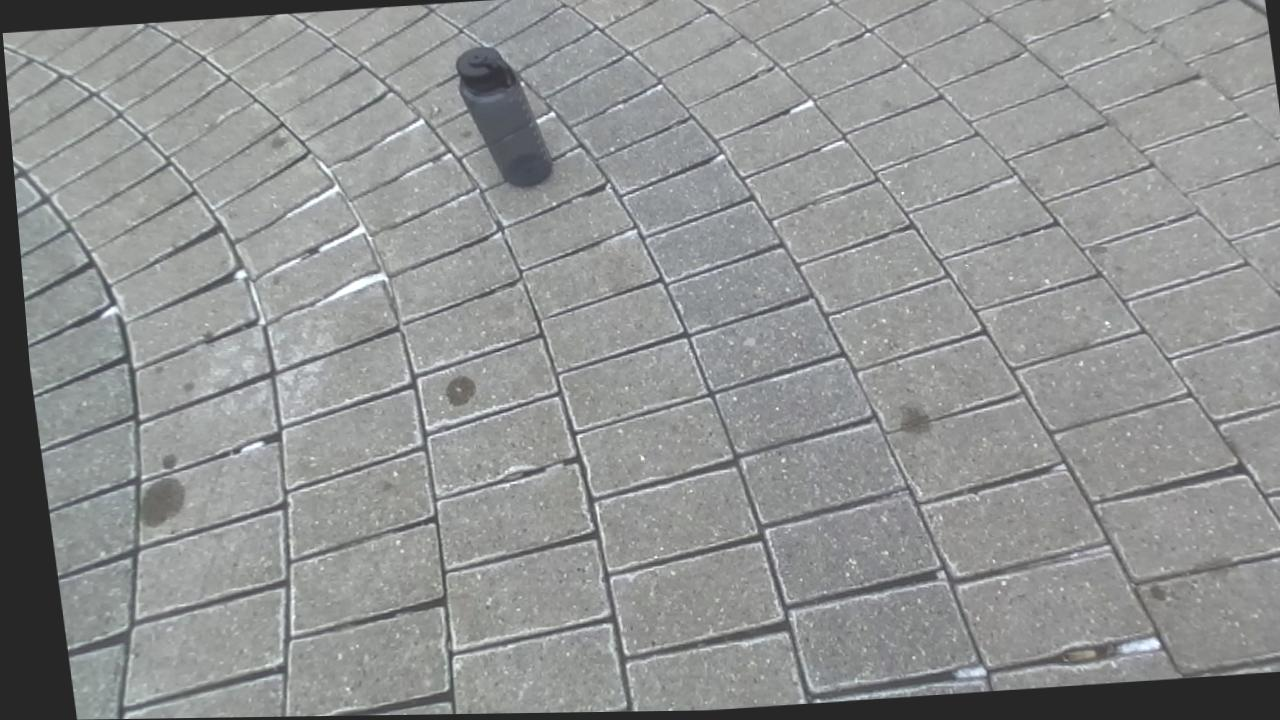bottle: (455, 47, 550, 185)
